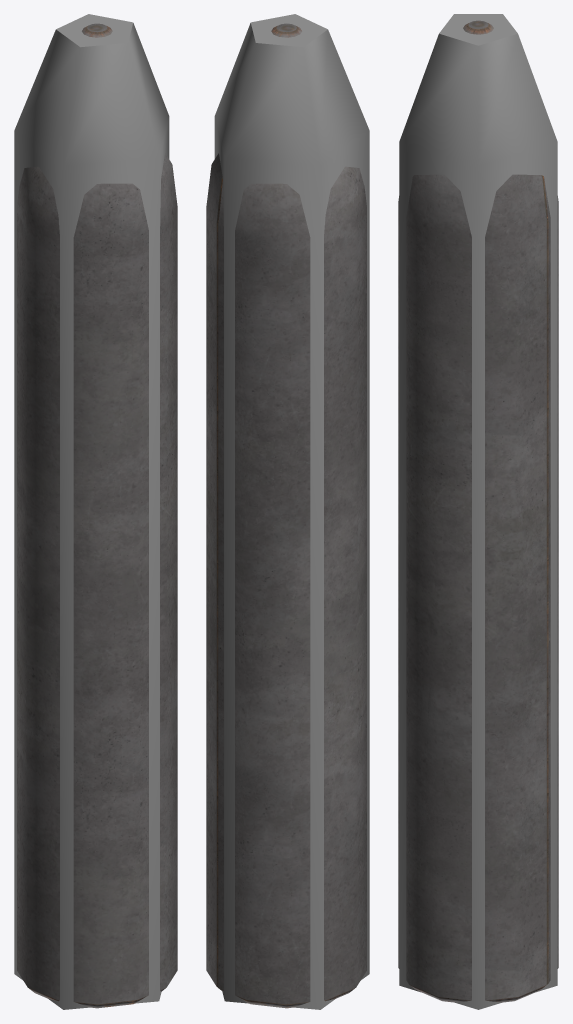
File: ind_gastank.DAE
3 views of the same model, side by side, from view 1: azimuth 30°, elevation 25°; view 2: azimuth 150°, elevation 25°; view 3: azimuth 270°, elevation 25° (orthographic).
Parts seen in each view (by area): view 1: ind_gastank350, Colmesh-1; view 2: ind_gastank350, Colmesh-1; view 3: ind_gastank350, Colmesh-1.
Boxes of the visible parts, x1,y1,x2,y2 form: ind_gastank350: [17, 23, 177, 1008]; Colmesh-1: [14, 14, 169, 1009]; ind_gastank350: [206, 23, 366, 1008]; Colmesh-1: [214, 14, 369, 1009]; ind_gastank350: [398, 20, 558, 1002]; Colmesh-1: [399, 14, 557, 1009].
Bounding box in the file's own units: 27.24 × 26.73 × 174.
